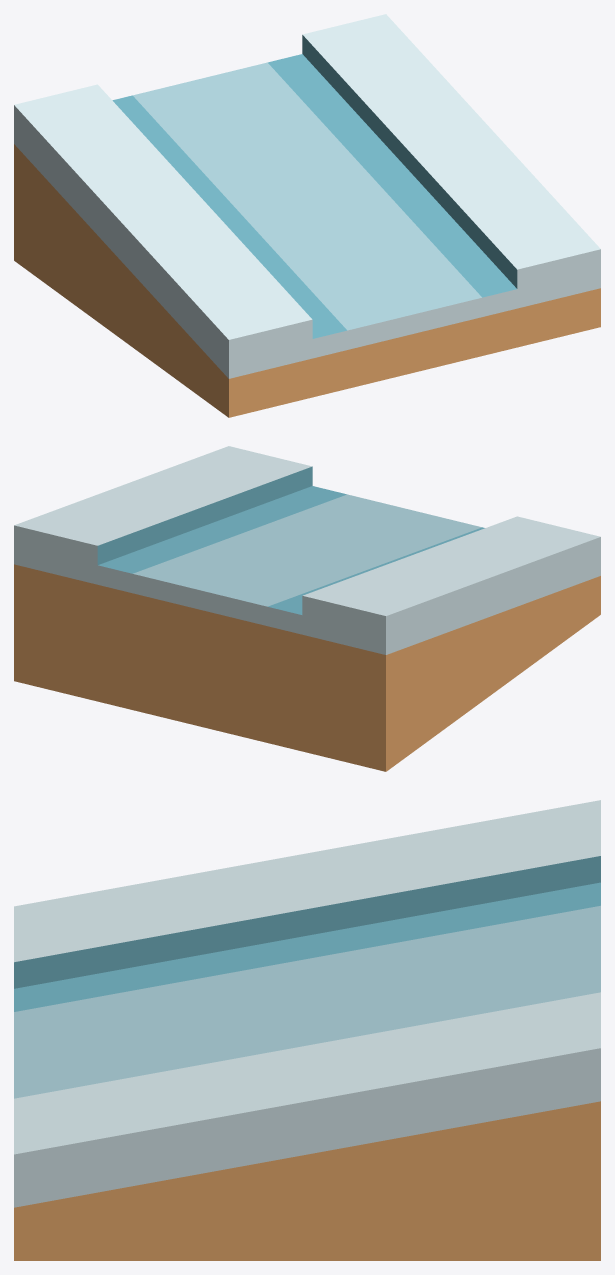
Rendered from snow_tile_straightHill.dae.
The picture shows the model from 3 angles, top to bottom: view 1: azimuth 30°, elevation 25°; view 2: azimuth 150°, elevation 25°; view 3: azimuth 270°, elevation 25°; orthographic projection. The views are drawn at different scales.
Visible parts, largest first — view 1: snow_tile_straightHill; view 2: snow_tile_straightHill; view 3: snow_tile_straightHill.
Boxes of the visible parts, <box> form: snow_tile_straightHill: <box>14,14,600,417</box>; snow_tile_straightHill: <box>14,446,600,771</box>; snow_tile_straightHill: <box>14,800,600,1260</box>.
Bounding box in the file's own units: 1 × 0.4 × 1.
